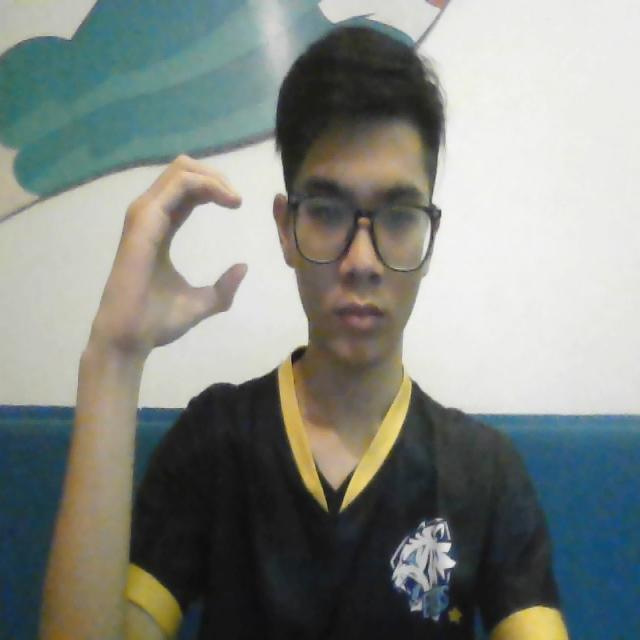C: (120, 144, 260, 328)
